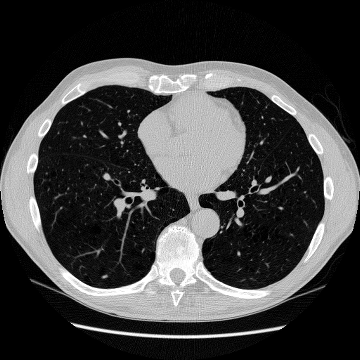nodule: (102, 274, 106, 278)
